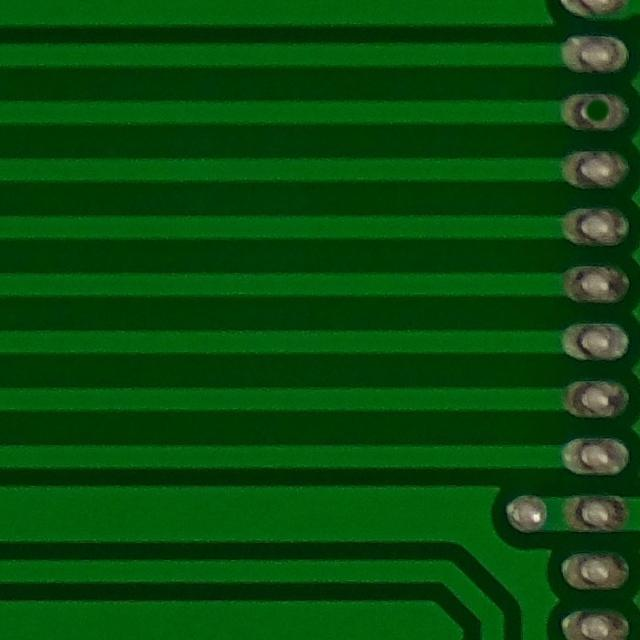missing_hole: (570, 81, 623, 138)
